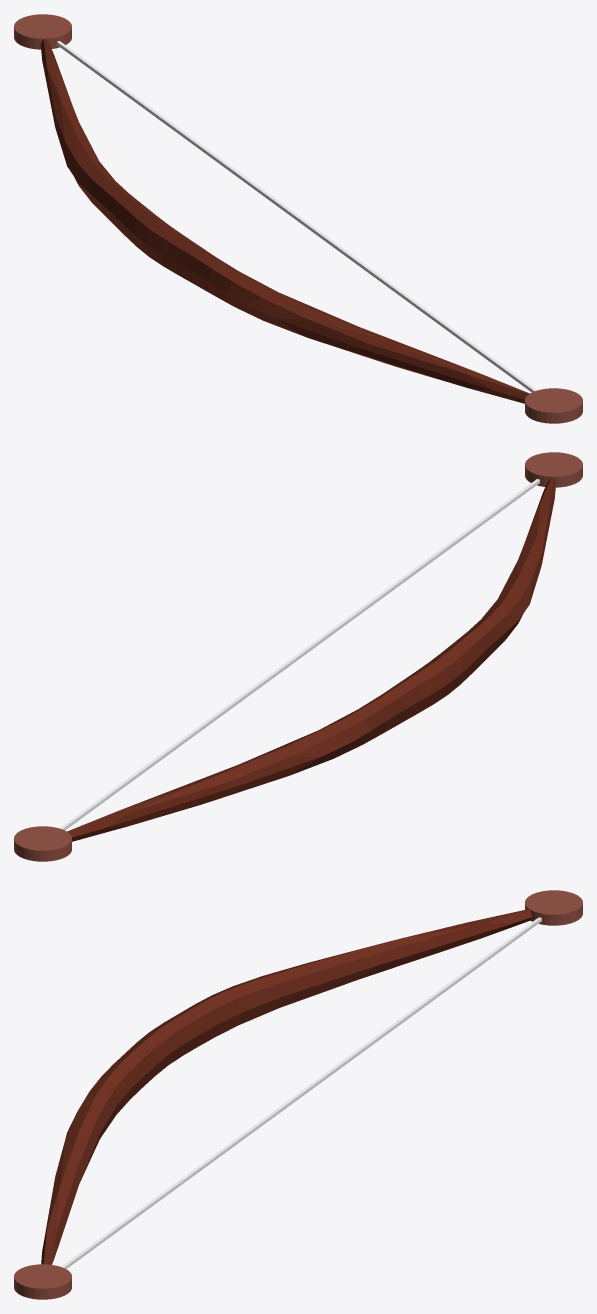
Rendered from bow.fbx.
3 renders of one model, top to bottom at view 1: azimuth 30°, elevation 25°; view 2: azimuth 150°, elevation 25°; view 3: azimuth 330°, elevation 25°, orthographic.
Visible parts, largest first — view 1: Cube, Cylinder, Cube.001; view 2: Cube, Cylinder, Cube.001; view 3: Cube, Cylinder, Cube.001.
Boxes of the visible parts, left/top/right/bottom form: Cube: left=40, top=38, right=578, bottom=415; Cylinder: left=14, top=14, right=582, bottom=423; Cube.001: left=57, top=41, right=536, bottom=392; Cube: left=18, top=476, right=556, bottom=853; Cylinder: left=14, top=452, right=582, bottom=861; Cube.001: left=60, top=479, right=539, bottom=830; Cube: left=38, top=909, right=532, bottom=1295; Cylinder: left=14, top=890, right=582, bottom=1299; Cube.001: left=61, top=917, right=541, bottom=1268.
Bounding box in the file's own units: 80.17 × 17.31 × 422.
